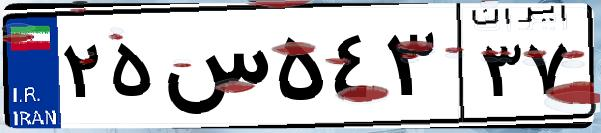2: (57, 26, 110, 100)
3: (385, 28, 445, 110), (475, 38, 525, 113)
4: (330, 28, 385, 110)
5: (270, 28, 330, 110), (110, 28, 158, 98)
7: (525, 38, 570, 115)
س: (158, 20, 270, 120)
